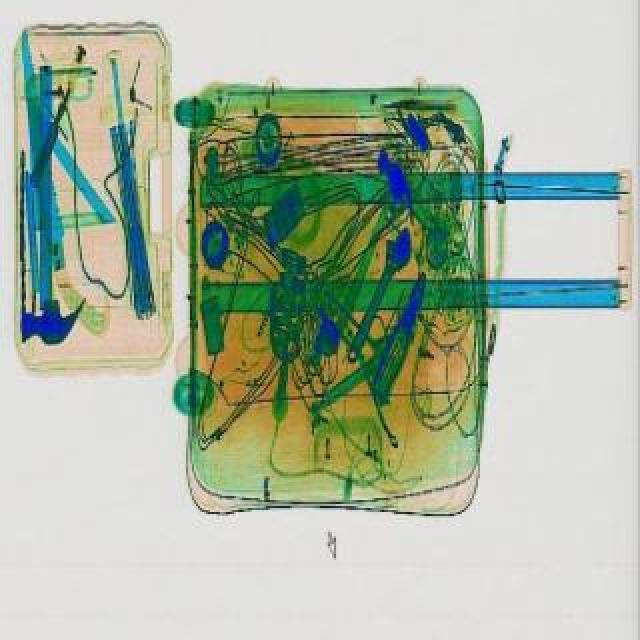scissors: (340, 226, 424, 374)
wrench: (368, 274, 440, 402)
